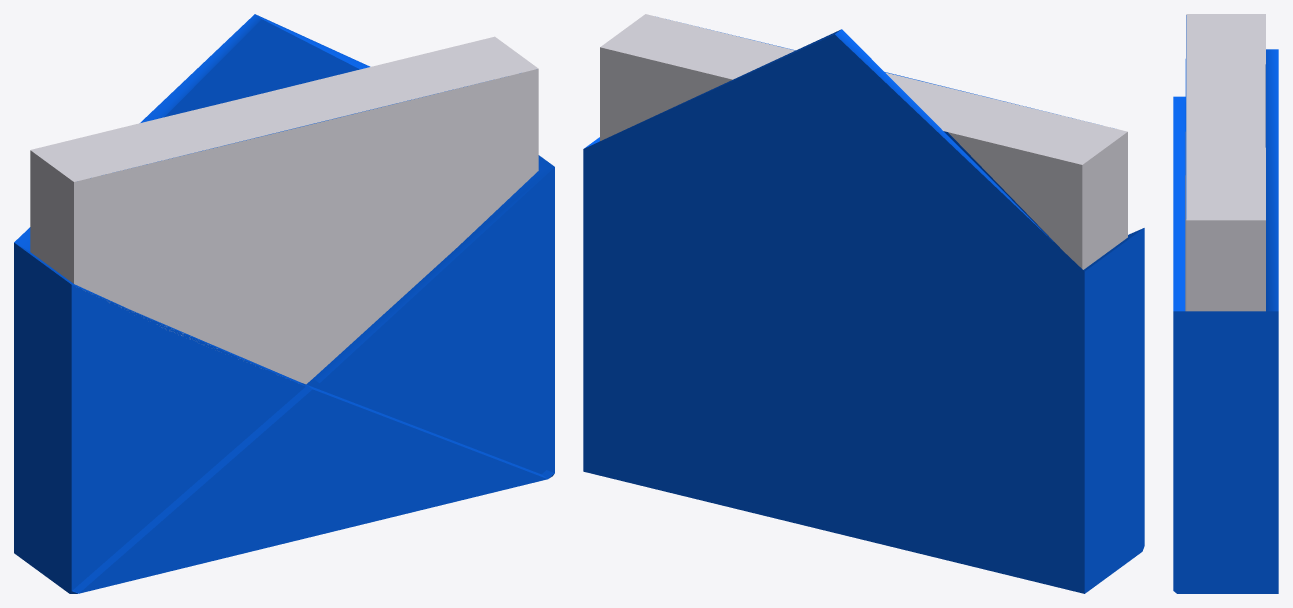
File: mail.glb
3 views of the same model, side by side, from view 1: azimuth 30°, elevation 25°; view 2: azimuth 150°, elevation 25°; view 3: azimuth 270°, elevation 25° (orthographic). The views are drawn at different scales.
Visible parts, largest first — view 1: open_mail; view 2: open_mail; view 3: open_mail.
Part boxes in pixels (x1,y1,x2,y2): open_mail: [14, 14, 554, 593]; open_mail: [583, 14, 1144, 593]; open_mail: [1173, 14, 1278, 593].
Bounding box in the file's own units: 20 × 19 × 4.14.
